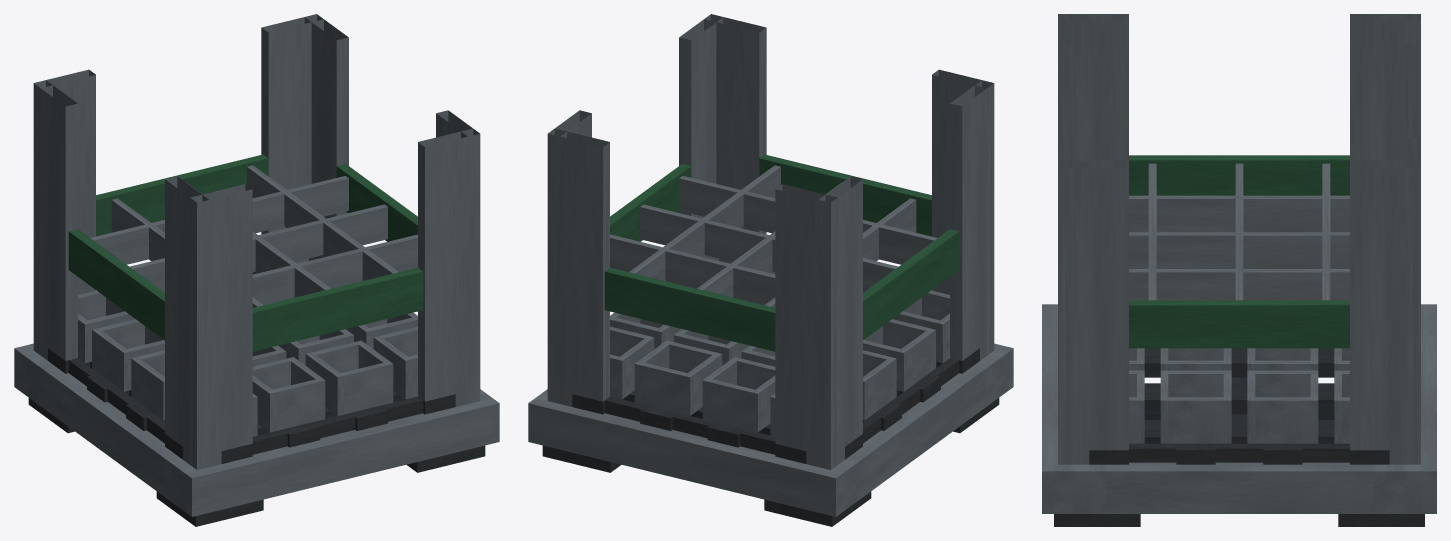
Rendered from tvs_frame_bottom.obj.
3 renders of one model, left to right at view 1: azimuth 30°, elevation 25°; view 2: azimuth 150°, elevation 25°; view 3: azimuth 270°, elevation 25°, orthographic. The views are drawn at different scales.
Size of the model in its own units: 1 by 1 by 1.
